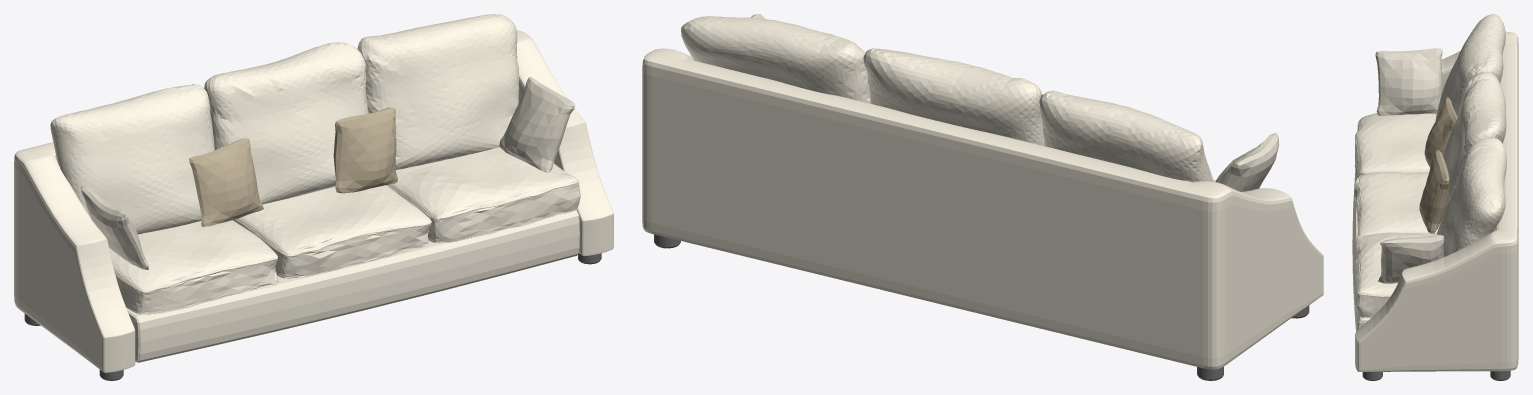
The model's file is sofa_3seat.glb.
The picture shows the model from 3 angles, left to right: view 1: azimuth 30°, elevation 25°; view 2: azimuth 150°, elevation 25°; view 3: azimuth 270°, elevation 25°; orthographic projection. The views are drawn at different scales.
Visible parts, largest first — view 1: back_Plane.001, base_Cube.002, bigcushion3_Cube.015, bigcushion2_Cube.004, bigcushion1_Cube.008, base_cushion2_Cube, base_cushion1_Cube.013, base_cushion3_Cube.014, cushion_dark2_Cube.005, cushion_dark_Cube.028, cushion_clear3_Cube.007, cushion_clear2_Cube.006; view 2: back_Plane.001, bigcushion2_Cube.004, bigcushion3_Cube.015, bigcushion1_Cube.008, cushion_clear2_Cube.006; view 3: back_Plane.001, bigcushion3_Cube.015, base_cushion3_Cube.014, base_cushion2_Cube, cushion_clear2_Cube.006, bigcushion2_Cube.004, bigcushion1_Cube.008, base_cushion1_Cube.013, cushion_clear3_Cube.007, cushion_dark2_Cube.005, cushion_dark_Cube.028, base_Cube.002 (+2 smaller).
Boxes of the visible parts, x1,y1,x2,y2 form: back_Plane.001: (14,30,613,372); base_Cube.002: (126,210,579,362); bigcushion3_Cube.015: (357,14,519,169); bigcushion2_Cube.004: (204,42,368,204); bigcushion1_Cube.008: (50,84,214,234); base_cushion2_Cube: (233,185,431,278); base_cushion1_Cube.013: (386,147,580,242); base_cushion3_Cube.014: (109,220,278,314); cushion_dark2_Cube.005: (333,107,397,193); cushion_dark_Cube.028: (189,138,263,226); cushion_clear3_Cube.007: (499,77,574,172); cushion_clear2_Cube.006: (81,185,148,269); back_Plane.001: (642,48,1323,369); bigcushion2_Cube.004: (863,48,1044,145); bigcushion3_Cube.015: (681,16,870,103); bigcushion1_Cube.008: (1039,90,1213,182); cushion_clear2_Cube.006: (1215,133,1279,191); back_Plane.001: (1355,32,1518,371); bigcushion3_Cube.015: (1436,138,1506,256); base_cushion3_Cube.014: (1354,113,1436,178); base_cushion2_Cube: (1354,172,1440,235); cushion_clear2_Cube.006: (1375,48,1442,115); bigcushion2_Cube.004: (1443,71,1506,205); bigcushion1_Cube.008: (1435,14,1505,120); base_cushion1_Cube.013: (1355,232,1436,317); cushion_clear3_Cube.007: (1378,234,1444,283); cushion_dark2_Cube.005: (1419,149,1449,233); cushion_dark_Cube.028: (1424,97,1457,167); base_Cube.002: (1352,172,1370,331).
Bounding box in the file's own units: 2.23 × 0.8789 × 0.7401.
